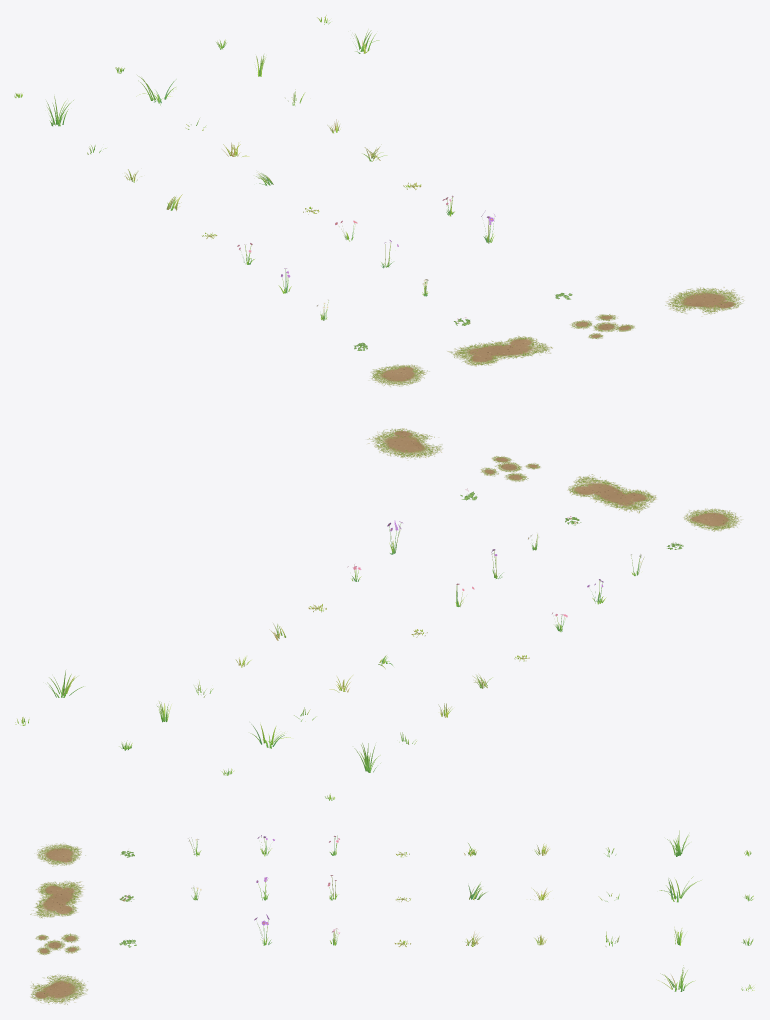
File: GrassFlowerKit_All.glb
The picture shows the model from 3 angles, top to bottom: view 1: azimuth 30°, elevation 25°; view 2: azimuth 150°, elevation 25°; view 3: azimuth 270°, elevation 25°; orthographic projection. The views are drawn at different scales.
Parts seen in each view (by area): view 1: DirtPatch_B_LOD0, DirtPatch_D_LOD0, DirtPatch_A_LOD0, DirtPatch_C_LOD0; view 2: DirtPatch_B_LOD0, DirtPatch_D_LOD0, DirtPatch_A_LOD0, DirtPatch_C_LOD0; view 3: DirtPatch_B_LOD0, DirtPatch_D_LOD0, DirtPatch_A_LOD0, DirtPatch_C_LOD0.
Part boxes in pixels (left/top/right/bottom): DirtPatch_B_LOD0: left=447, top=336, right=552, bottom=366; DirtPatch_D_LOD0: left=665, top=287, right=744, bottom=316; DirtPatch_A_LOD0: left=370, top=364, right=429, bottom=386; DirtPatch_C_LOD0: left=570, top=314, right=634, bottom=339; DirtPatch_B_LOD0: left=567, top=474, right=656, bottom=513; DirtPatch_D_LOD0: left=367, top=428, right=442, bottom=459; DirtPatch_A_LOD0: left=683, top=508, right=742, bottom=531; DirtPatch_C_LOD0: left=480, top=456, right=540, bottom=481; DirtPatch_B_LOD0: left=30, top=880, right=84, bottom=918; DirtPatch_D_LOD0: left=30, top=974, right=87, bottom=1004; DirtPatch_A_LOD0: left=37, top=842, right=85, bottom=866; DirtPatch_C_LOD0: left=35, top=933, right=80, bottom=955.
Size of what is drawn, in the model's own units: 7.35 by 0.6325 by 13.99.
Materials: 2 (2 with a texture image).
